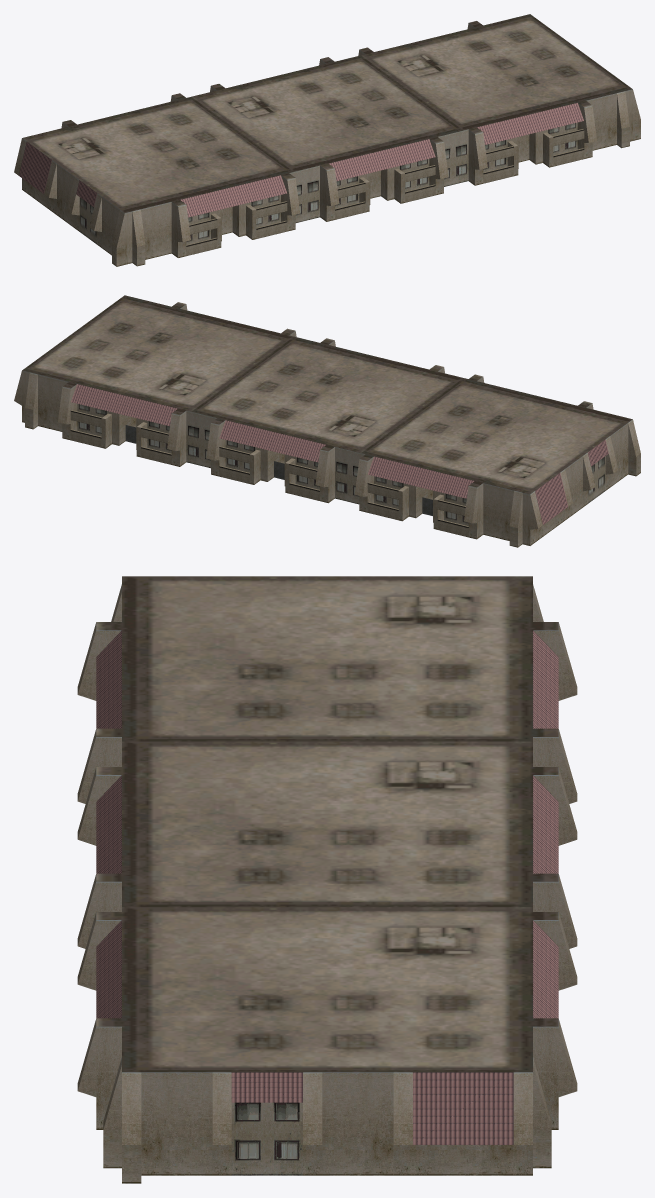
The model's file is vgnhseblk1.obj.
The picture shows the model from 3 angles, top to bottom: view 1: azimuth 30°, elevation 25°; view 2: azimuth 150°, elevation 25°; view 3: azimuth 270°, elevation 25°; orthographic projection. The views are drawn at different scales.
Visible parts, largest first — view 1: vgnhseblk1; view 2: vgnhseblk1; view 3: vgnhseblk1.
Part boxes in pixels (x1,y1,x2,y2): vgnhseblk1: (14,14,640,266); vgnhseblk1: (14,295,640,547); vgnhseblk1: (77,576,577,1183).
Size of the model in its own units: 65.44 by 6.17 by 27.
6 materials, 6 textured.
